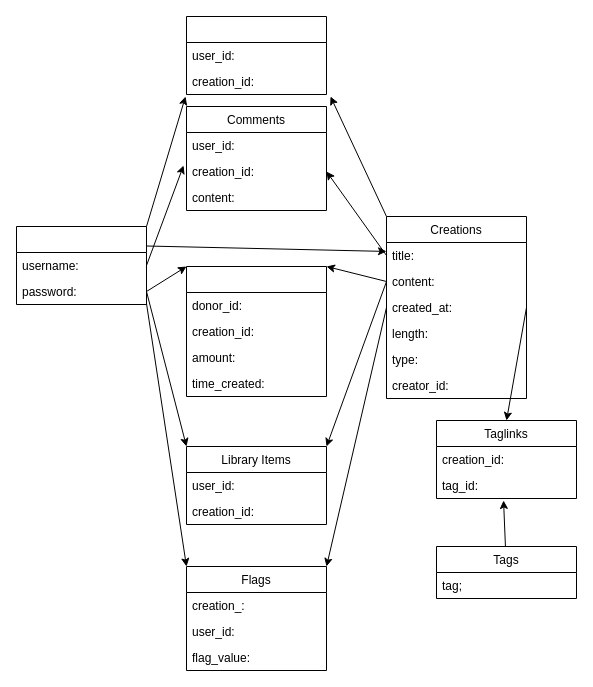
Image size: 593x687. Some labels were removed from this diagram. The shapes that lost their labels are listed below. From the top down, each one's box as (x1, y1, x2, y2) in pixels, then its label:
(186, 16, 326, 94): Likes
(16, 226, 146, 304): Users
(186, 266, 326, 396): Donations
